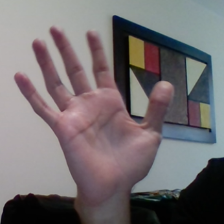left: (6, 9, 192, 197)
